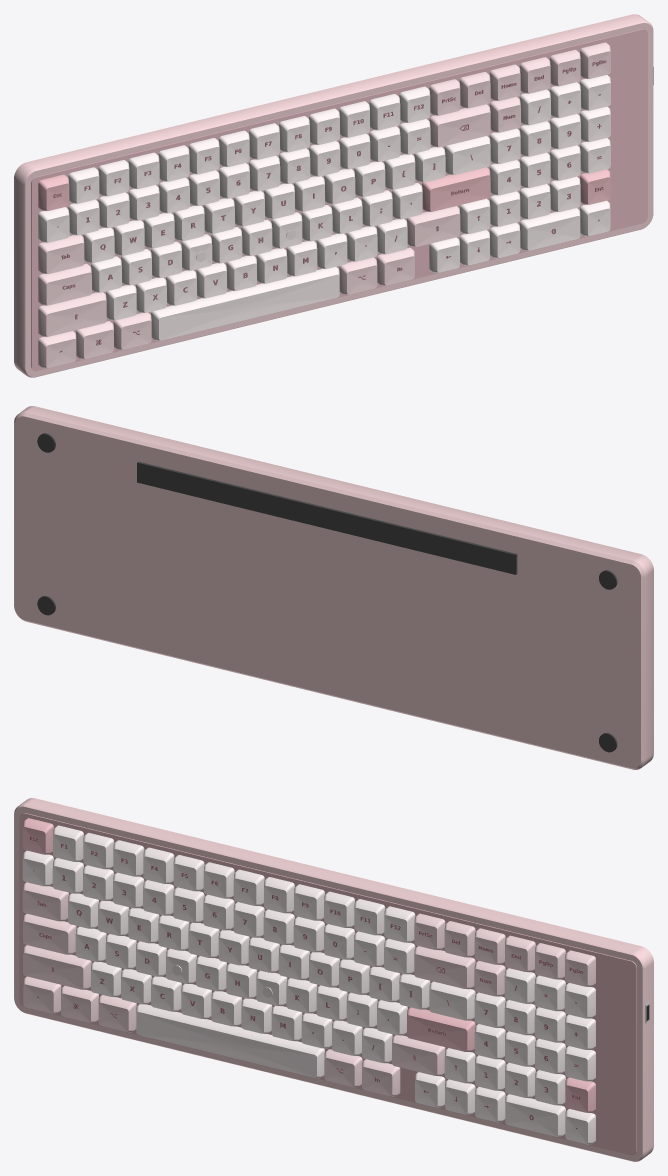
File: flow2_100_petal.glb
3 views of the same model, one above another, from view 1: azimuth 30°, elevation 25°; view 2: azimuth 150°, elevation 25°; view 3: azimuth 330°, elevation 25° (orthographic).
Visible parts, largest first — view 1: keycaps_alpha, keycaps_mod, case, key_well, keycaps_accent, legends; view 2: case, feet; view 3: keycaps_alpha, keycaps_mod, case, key_well, keycaps_accent, legends.
Boxes of the visible parts, x1,y1,x2,y2 form: keycaps_alpha: [38, 75, 610, 340]; keycaps_mod: [38, 42, 610, 368]; case: [14, 14, 653, 377]; key_well: [31, 29, 647, 371]; keycaps_accent: [38, 167, 610, 211]; legends: [53, 60, 606, 352]; case: [14, 406, 653, 769]; feet: [37, 433, 617, 752]; keycaps_alpha: [22, 825, 595, 1144]; keycaps_mod: [22, 882, 595, 1096]; case: [14, 798, 653, 1161]; key_well: [19, 813, 636, 1155]; keycaps_accent: [23, 818, 595, 1112]; legends: [30, 836, 583, 1129].
Bounding box in the file's own units: 399 × 126 × 21.51.
